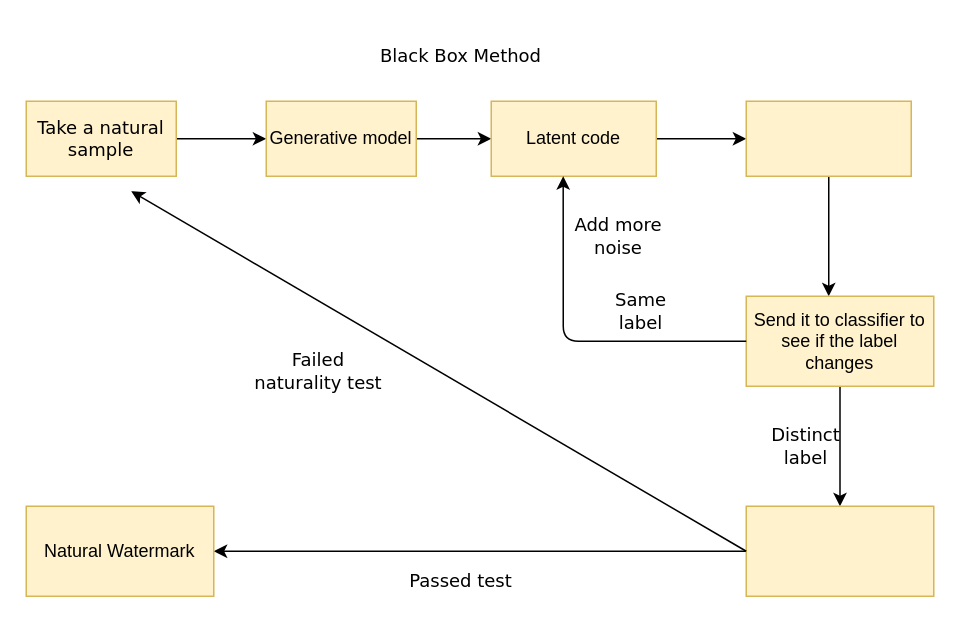
The diagram is 960 pixels wide and 623 high, and some of its shapes have lost their labels. The box of each missing label's shape, as (x1, y1, x2, y2) in pixels:
Add noise and reconstruct image: (745, 100, 911, 176)
Check for naturality In FILTERER: (745, 505, 934, 596)
